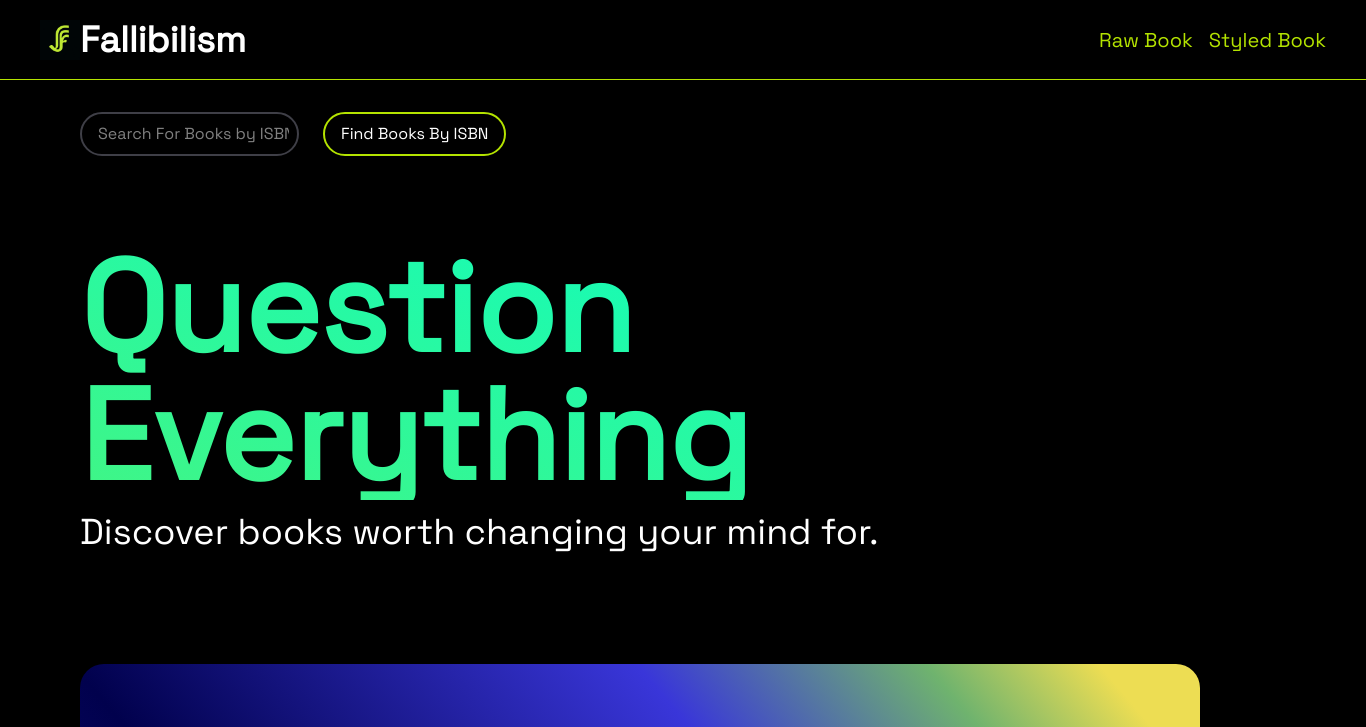
Test: SearchBar › fetches and displays no books with valid response
The image size is (1366, 727).
Note: Enter a valid ISBN and submit
Click the link "Raw Book" at (1146, 40), box [1099,26,1193,54]
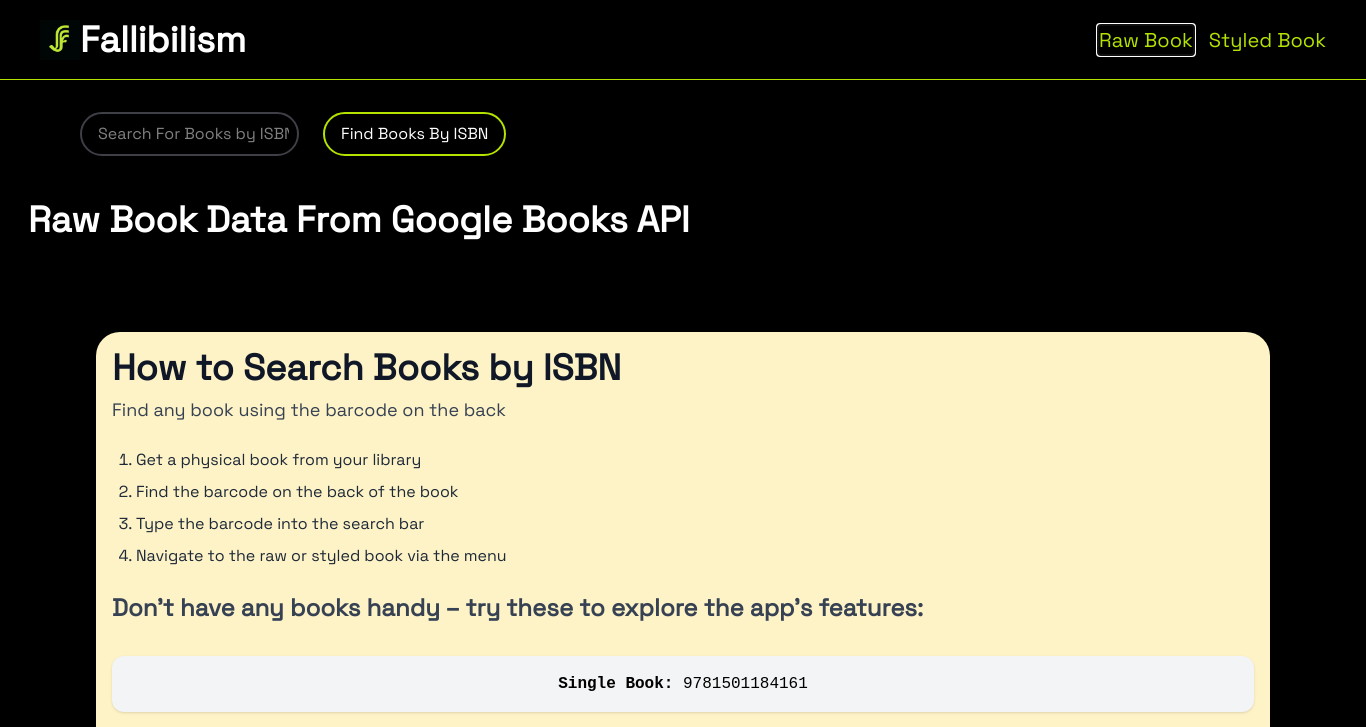
Type "11112111111" into the field with placeholder "Search For Books by ISBN" at (190, 134), box [80,112,299,156]
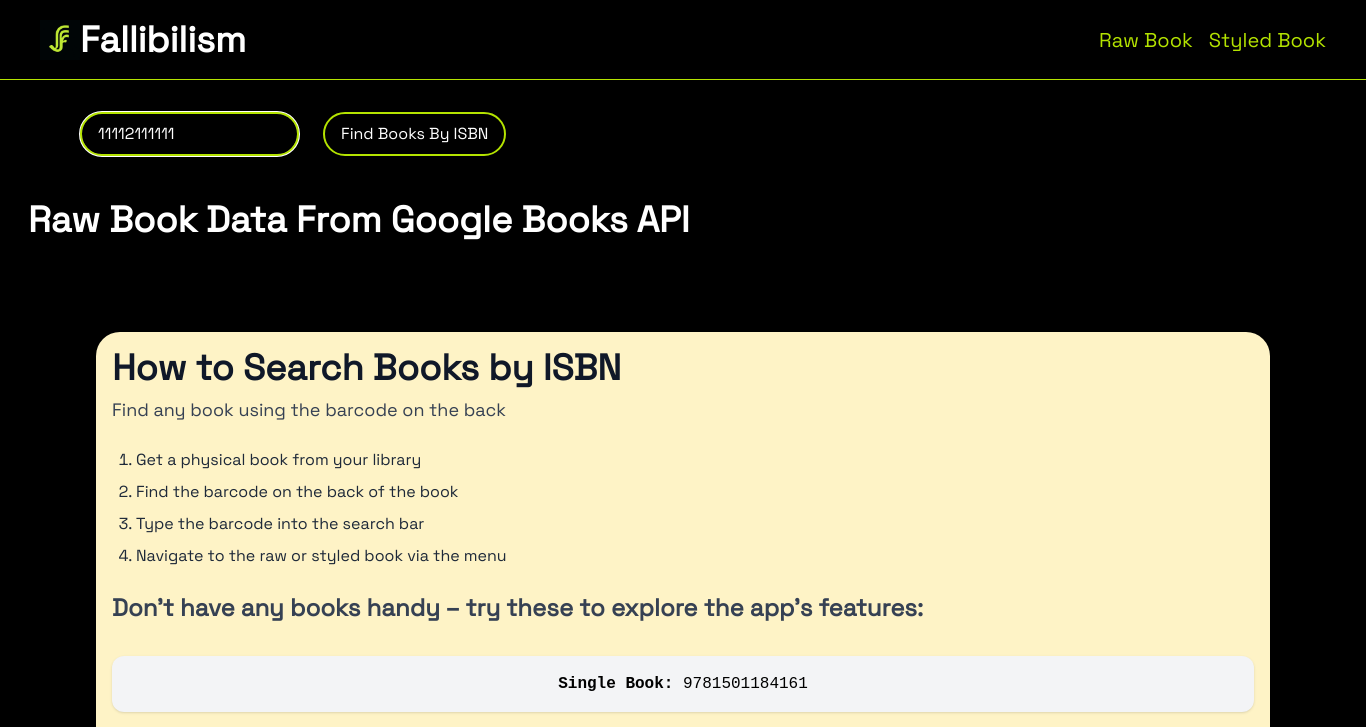
Click the button "Find Books By ISBN" at (415, 134), box [323,112,506,156]
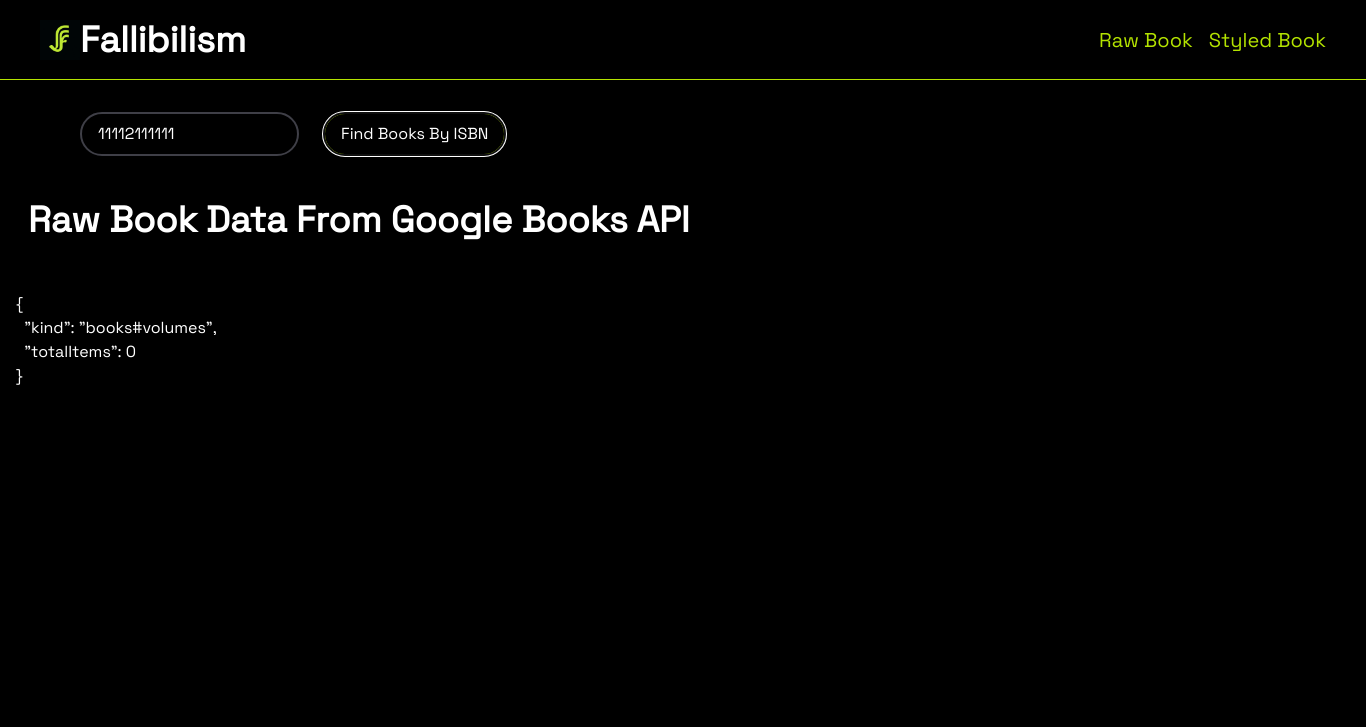
expect the text "{ \"kind\": \"books#volumes\", \"totalItems\": 0 }" is shown: met, box [16,293,217,386]
